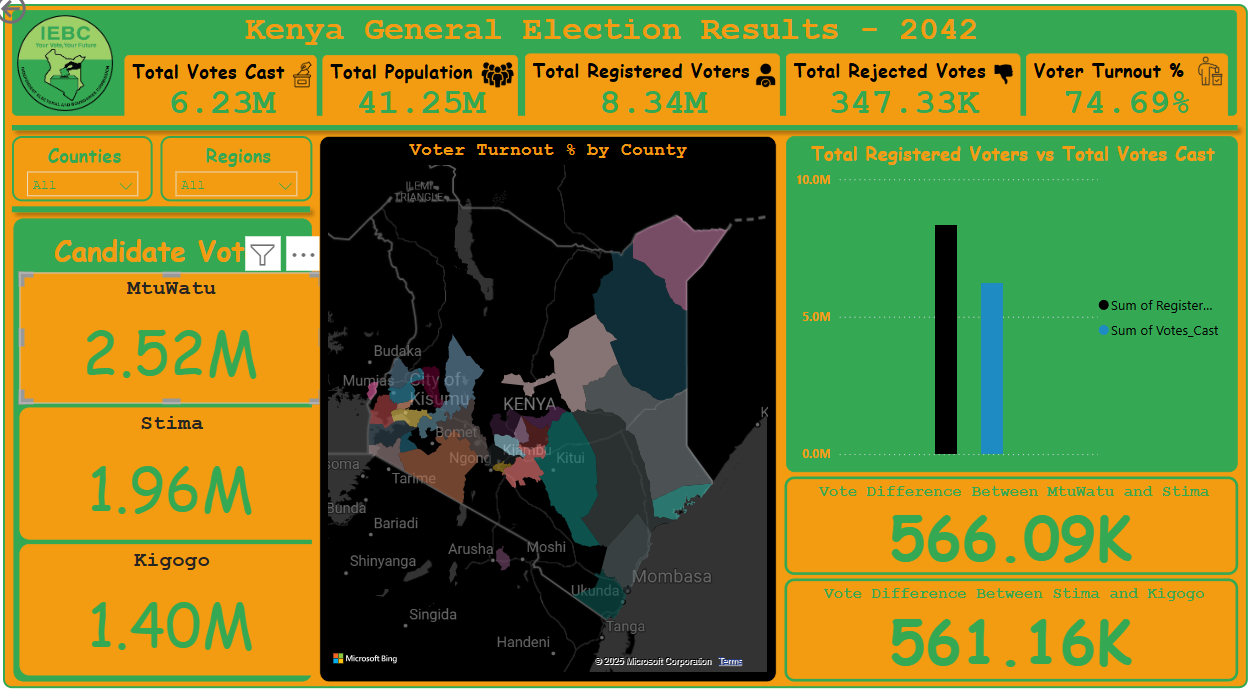

The dashboard page shown, as its layout file describes it:
{"tool":"powerbi","page":{"name":"General Overview","canvas":[1280,720],"ordinal":0},"visuals":[{"type":"shape","box":[12.1,15.1,1256.8,690.5],"z":0},{"type":"shape","box":[21.9,21.9,1236.4,106.7],"z":1000},{"type":"image","box":[21.9,21.9,106.7,106.7],"z":2000},{"type":"slicer","title":"Counties","fields":{"Values":["Voting_Data.County"]},"box":[20.5,148.4,142.1,66.3],"z":3000},{"type":"slicer","title":"Regions","fields":{"Values":["Voting_Data.Region"]},"box":[170.5,148.4,153.2,66.3],"z":4000},{"type":"card","title":"Total Population","fields":{"Values":["Sum(County_Info.Population)"]},"box":[334.7,66.3,197.4,69.5],"z":5000},{"type":"card","title":"Total Votes Cast","fields":{"Values":["Sum(Voting_Data.Votes_Cast)"]},"box":[134.2,66.3,194.2,69.5],"z":6000},{"type":"textbox","title":"Kenya General Election Results - 2042","box":[247.9,22.1,756.3,37.9],"z":7000},{"type":"card","title":"Total Registered Voters","fields":{"Values":["Sum(Voting_Data.Registered_Voters)"]},"box":[538.4,64.7,257.4,71.1],"z":8000},{"type":"card","title":"Total Rejected Votes","fields":{"Values":["Sum(Voting_Data.Rejected_Votes)"]},"box":[802.1,64.7,236.8,71.1],"z":9000},{"type":"card","title":"Voter Turnout %","fields":{"Values":["Voting_Data.Voter_Turnout %"]},"box":[1045.3,64.7,203.7,71.1],"z":10000},{"type":"shape","box":[12.6,129.5,1255.3,18.9],"z":11000},{"type":"image","box":[295.3,66.3,37.9,39.5],"z":12000},{"type":"image","box":[762.6,67.9,37.9,37.9],"z":13000},{"type":"image","box":[1007.4,67.9,30,36.3],"z":14000},{"type":"image","box":[1196.9,52.1,69.5,66.3],"z":15000},{"type":"image","box":[489.5,61.6,44.2,48.9],"z":16000},{"type":"shape","box":[12.6,208.4,319,26.8],"z":17000},{"type":"clusteredColumnChart","title":"Total Registered Voters vs Total Votes Cast","fields":{"Y":["Sum(Voting_Data.Registered_Voters)","Sum(Voting_Data.Votes_Cast)"]},"box":[802.1,148.4,456.3,339.5],"z":18000},{"type":"card","title":"Vote Difference Between MtuWatu and Stima","fields":{"Values":["Sum(Voting_Data.Kasongo vs Wamunyoro)"]},"box":[800.5,492.6,457.9,99.5],"z":19000},{"type":"card","title":"Vote Difference Between Stima and Kigogo","fields":{"Values":["Sum(Voting_Data.Wamunyoro vs Kibangi)"]},"box":[800.5,595.3,457.9,104.2],"z":20000},{"type":"textbox","title":"Candidate Votes","box":[22.1,232.1,301.6,467.4],"z":21000},{"type":"card","title":"MtuWatu","fields":{"Values":["Sum(Voting_Data.MtuWatu)"]},"box":[28.8,286.2,305.9,131.7],"z":22000},{"type":"card","title":"Stima","fields":{"Values":["Sum(Voting_Data.Wamunyoro)"]},"box":[28.8,422.5,305.9,133.3],"z":23000},{"type":"card","title":"Kigogo","fields":{"Values":["Sum(Voting_Data.Kibangi)"]},"box":[28.4,560.5,306.3,132.6],"z":24000},{"type":"filledMap","title":"Voter Turnout % by County","fields":{"Category":["Voting_Data.County"],"Series":["Voting_Data.County"]},"box":[331.6,148.4,461.1,551.1],"z":25000},{"type":"actionButton","box":[0,0,100,40],"z":26000}]}

Visuals, with their boxes in screenshot pixels (x1, y1, x2, y2), scaled from the page's 1280x720 canvas onto the 1249x691 screenshot:
shape: x1=12 y1=14 x2=1238 y2=677
shape: x1=21 y1=21 x2=1228 y2=123
image: x1=21 y1=21 x2=125 y2=123
"Counties" slicer: x1=20 y1=142 x2=159 y2=206
"Regions" slicer: x1=166 y1=142 x2=316 y2=206
"Total Population" card: x1=327 y1=64 x2=519 y2=130
"Total Votes Cast" card: x1=131 y1=64 x2=320 y2=130
"Kenya General Election Results - 2042" textbox: x1=242 y1=21 x2=980 y2=58
"Total Registered Voters" card: x1=525 y1=62 x2=777 y2=130
"Total Rejected Votes" card: x1=783 y1=62 x2=1014 y2=130
"Voter Turnout %" card: x1=1020 y1=62 x2=1219 y2=130
shape: x1=12 y1=124 x2=1237 y2=142
image: x1=288 y1=64 x2=325 y2=102
image: x1=744 y1=65 x2=781 y2=102
image: x1=983 y1=65 x2=1012 y2=100
image: x1=1168 y1=50 x2=1236 y2=114
image: x1=478 y1=59 x2=521 y2=106
shape: x1=12 y1=200 x2=324 y2=226
"Total Registered Voters vs Total Votes Cast" clusteredColumnChart: x1=783 y1=142 x2=1228 y2=468
"Vote Difference Between MtuWatu and Stima" card: x1=781 y1=473 x2=1228 y2=568
"Vote Difference Between Stima and Kigogo" card: x1=781 y1=571 x2=1228 y2=671
"Candidate Votes" textbox: x1=22 y1=223 x2=316 y2=671
"MtuWatu" card: x1=28 y1=275 x2=327 y2=401
"Stima" card: x1=28 y1=405 x2=327 y2=533
"Kigogo" card: x1=28 y1=538 x2=327 y2=665
"Voter Turnout % by County" filledMap: x1=324 y1=142 x2=774 y2=671
actionButton: x1=0 y1=0 x2=98 y2=38
